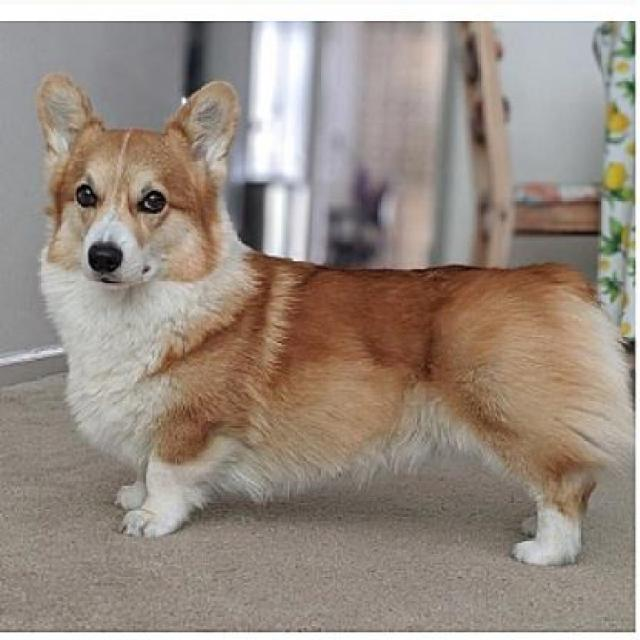Dog: (35, 69, 632, 569)
